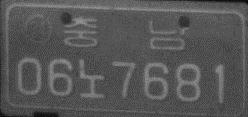0: (16, 56, 41, 96)
1: (207, 63, 234, 104)
6: (143, 62, 169, 101), (48, 57, 73, 97)
7: (110, 59, 136, 99)
8: (175, 62, 202, 102)
노: (77, 58, 108, 99)
영: (23, 13, 53, 46)
충남_D: (63, 14, 189, 50)
